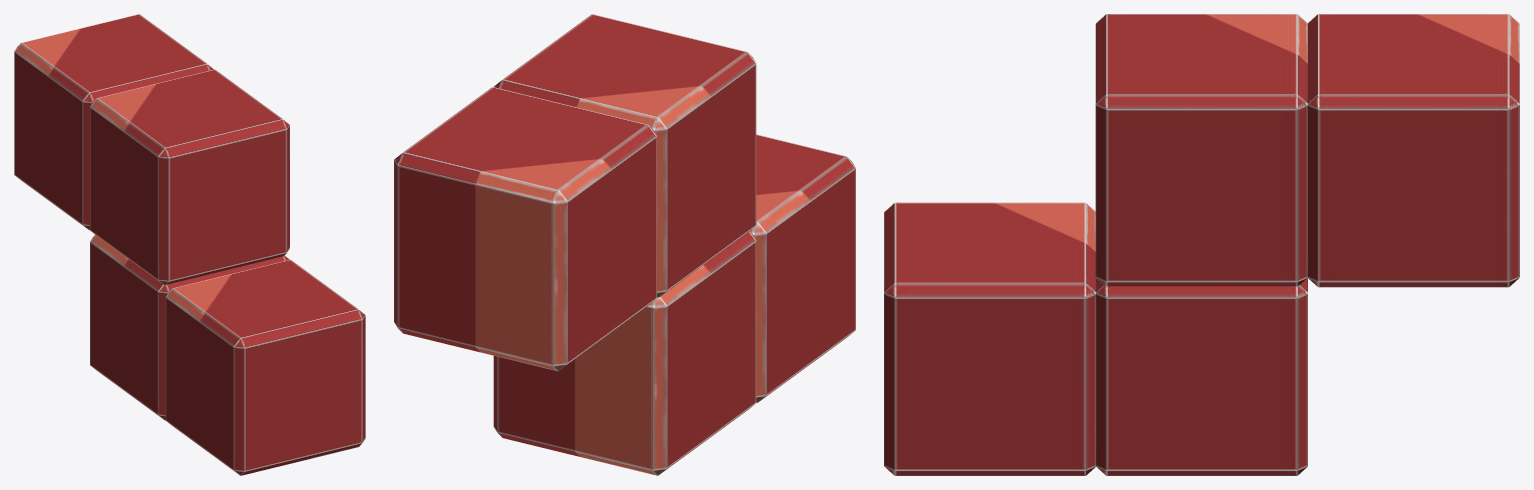
The model's file is Red Block.fbx.
3 views of the same model, side by side, from view 1: azimuth 30°, elevation 25°; view 2: azimuth 150°, elevation 25°; view 3: azimuth 270°, elevation 25° (orthographic). The views are drawn at different scales.
Parts seen in each view (by area): view 1: pCube39; view 2: pCube39; view 3: pCube39.
Part boxes in pixels (left/top/right/bottom): pCube39: left=14, top=14, right=365, bottom=475; pCube39: left=394, top=14, right=855, bottom=475; pCube39: left=884, top=14, right=1519, bottom=475.
Size of the model in its own units: 1 by 1.98 by 2.99.
